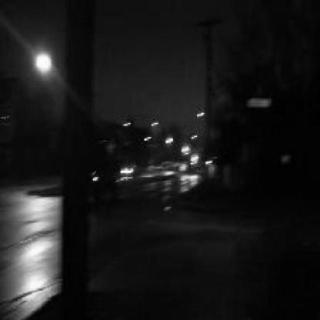other: (14, 47, 61, 81)
